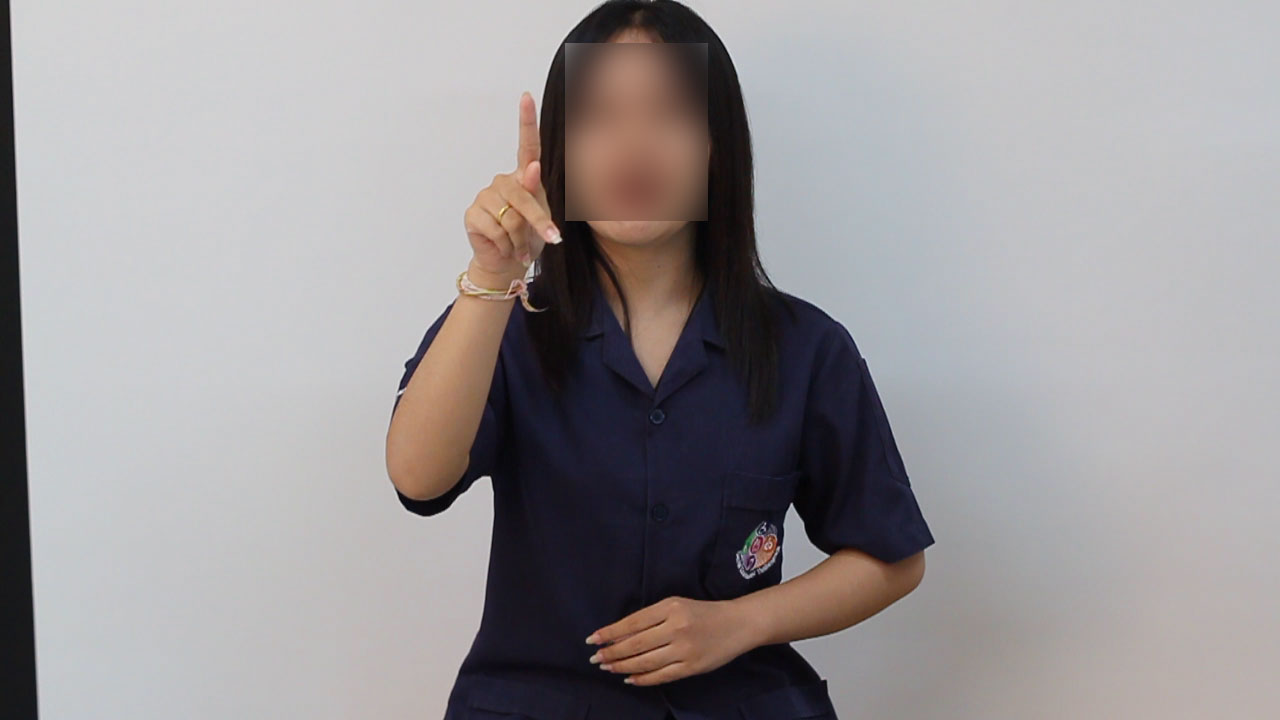por: (441, 78, 573, 292)
